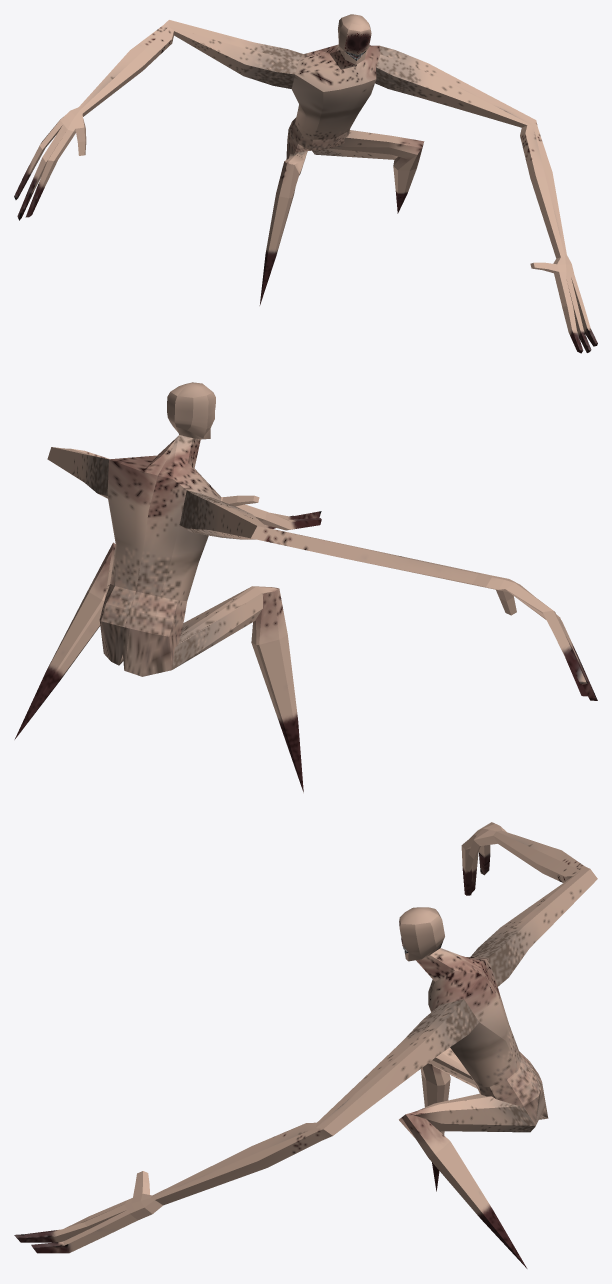
Rendered from monster.glb.
3 renders of one model, top to bottom at view 1: azimuth 30°, elevation 25°; view 2: azimuth 150°, elevation 25°; view 3: azimuth 270°, elevation 25°, orthographic. The views are drawn at different scales.
Visible parts, largest first — view 1: pCylinder2; view 2: pCylinder2; view 3: pCylinder2.
Boxes of the visible parts, <box> form: pCylinder2: <box>14,14,597,353</box>; pCylinder2: <box>14,382,597,792</box>; pCylinder2: <box>14,822,597,1268</box>.
Size of the model in its own units: 0.0951 by 0.0541 by 0.0849.
1 material, 1 textured.
